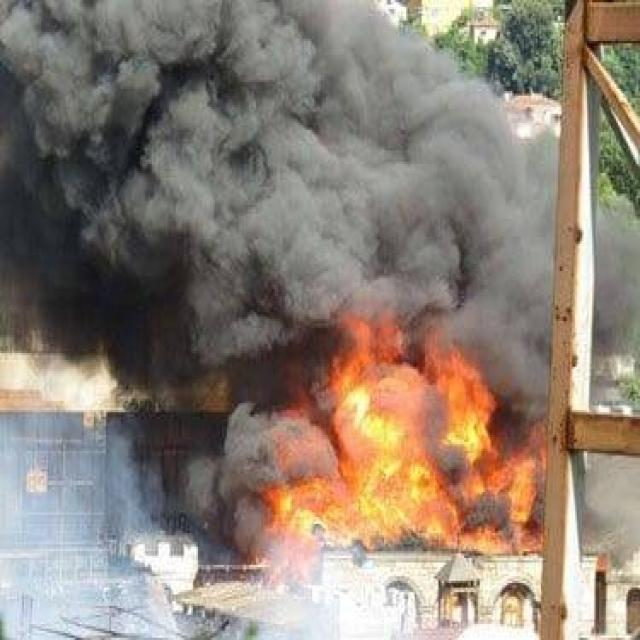Fire: (266, 320, 548, 548)
Smoke: (0, 0, 266, 375), (269, 0, 552, 318), (181, 398, 265, 550), (594, 196, 640, 357)
